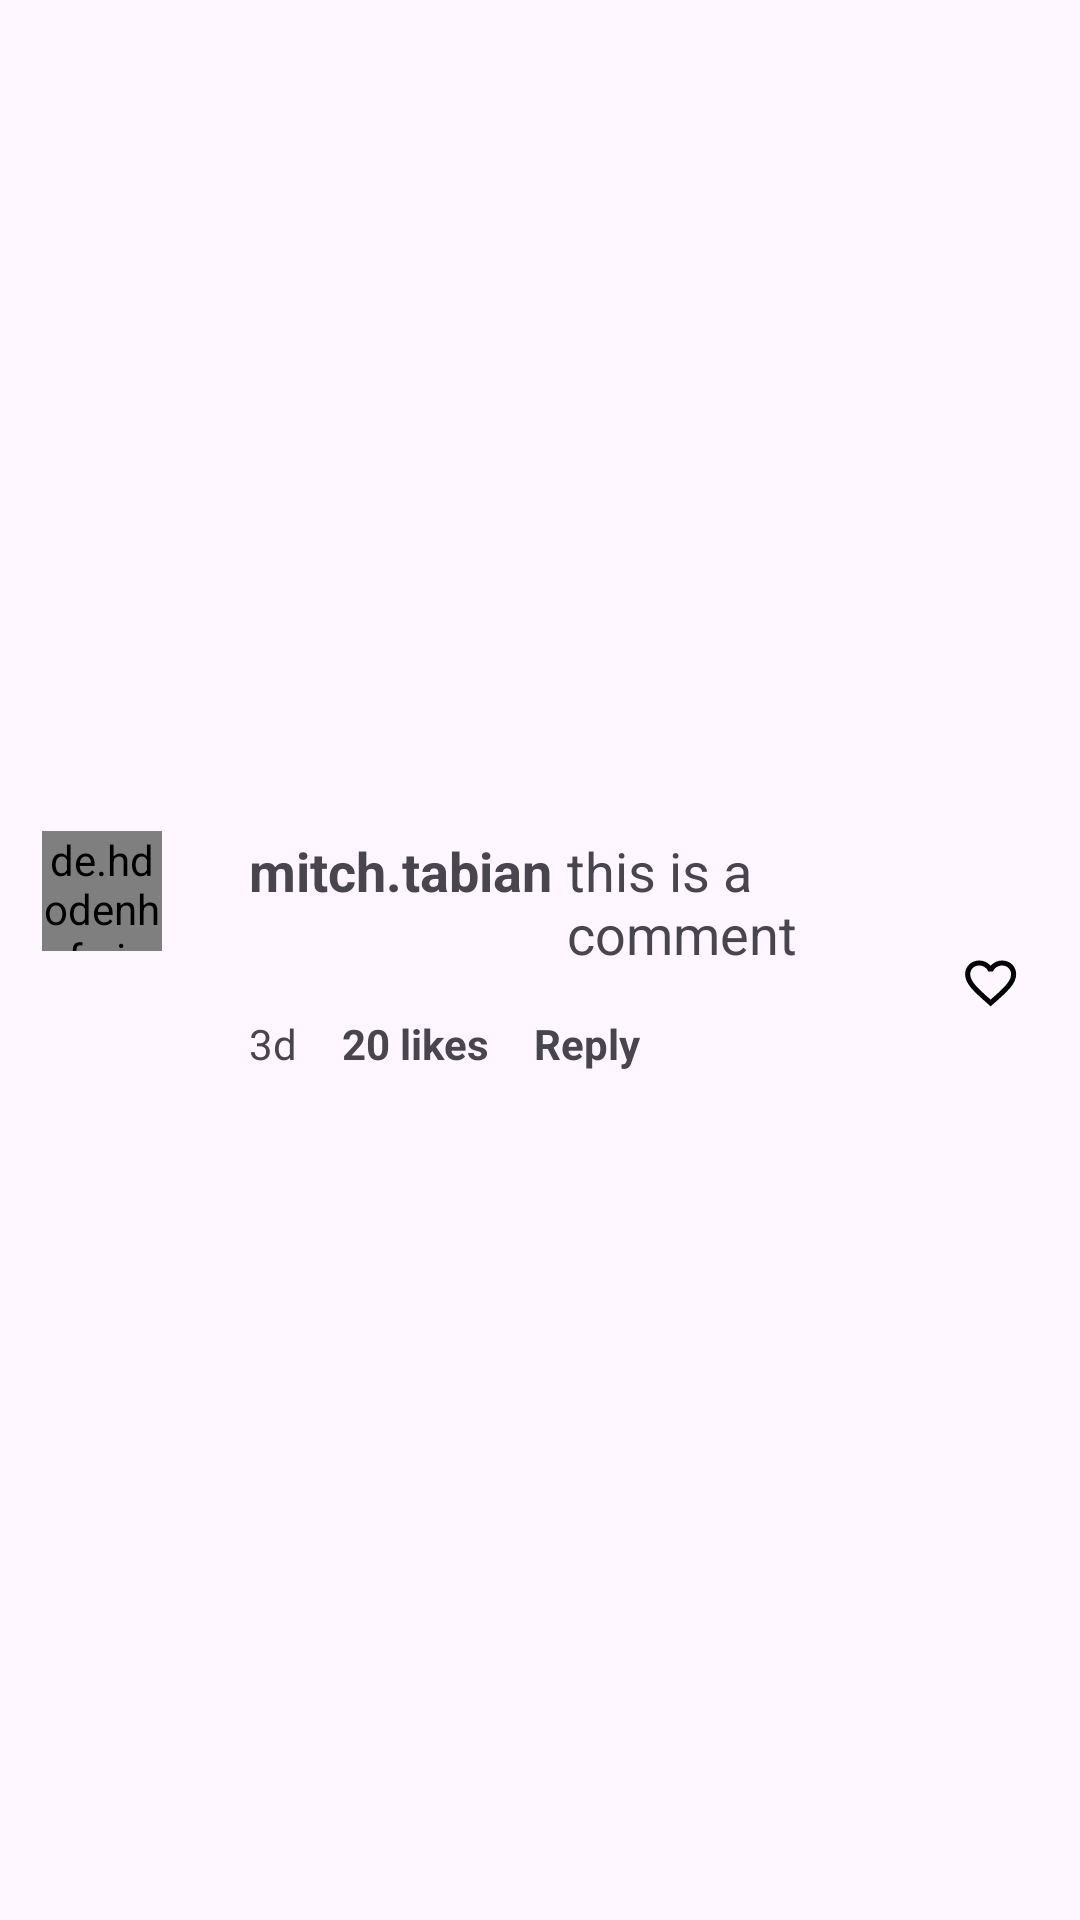

Icon click points for this 1080w x 1920h phone screenshot, format (x,y):
like: (991,983)
